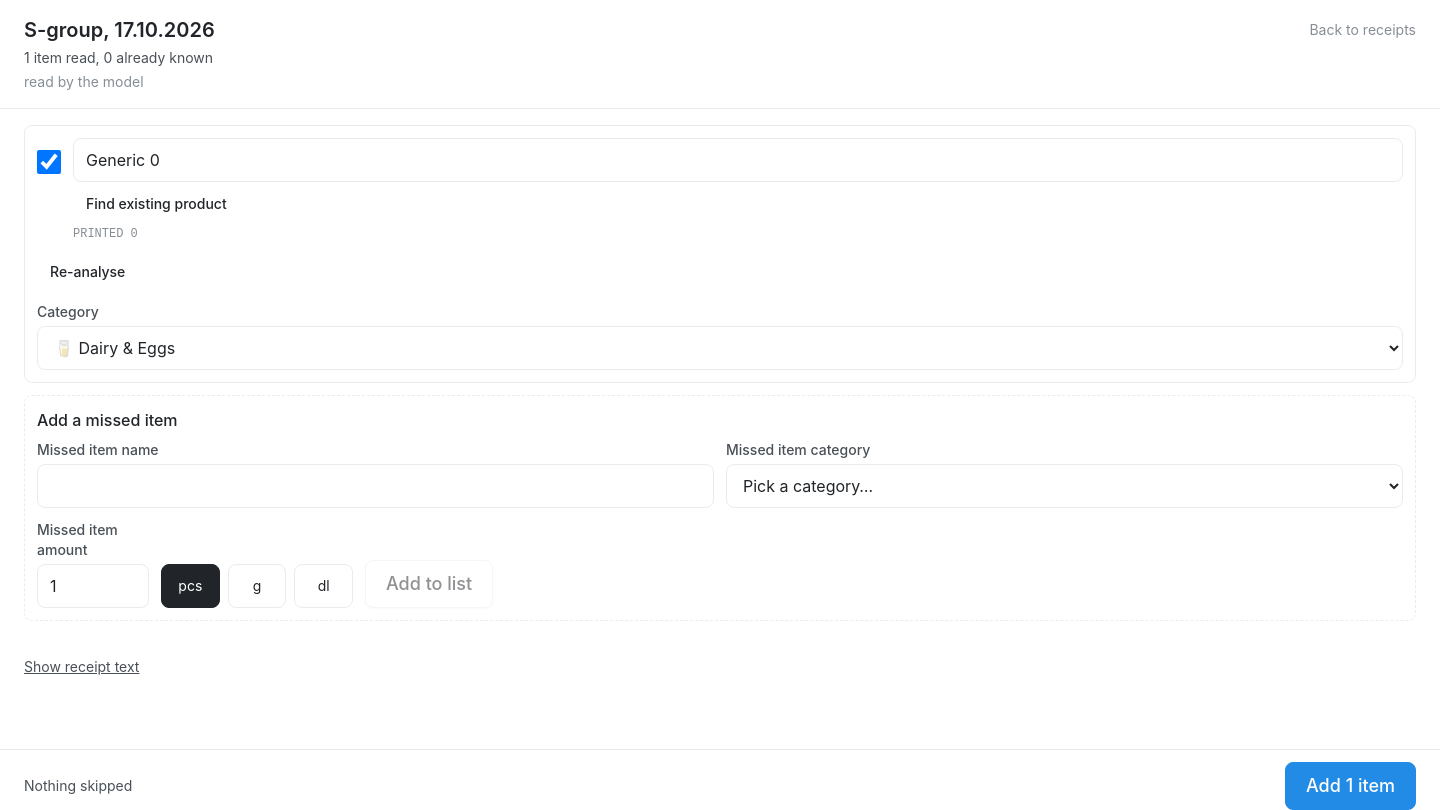
Test: ReceiptReviewPage receipt text (Q28) › keeps the receipt text folded until asked for
Click the button "Show receipt text" at (82, 667), box [24,645,139,689]
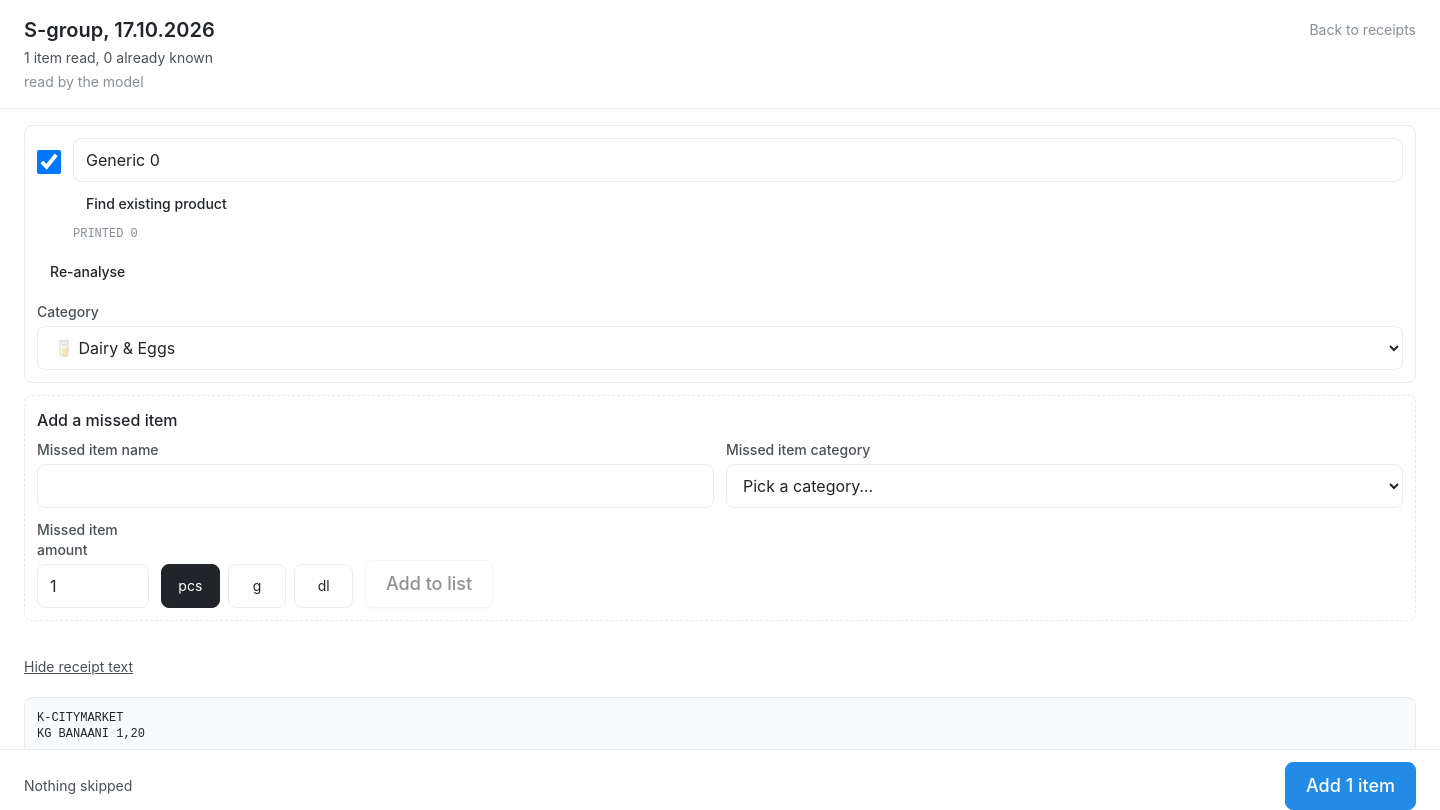
expect the text "K-CITYMARKET KG BANAANI 1,20" is shown: met, box [24,697,1416,755]
expect the button "Hide receipt text" is expanded: met, box [24,645,133,689]
